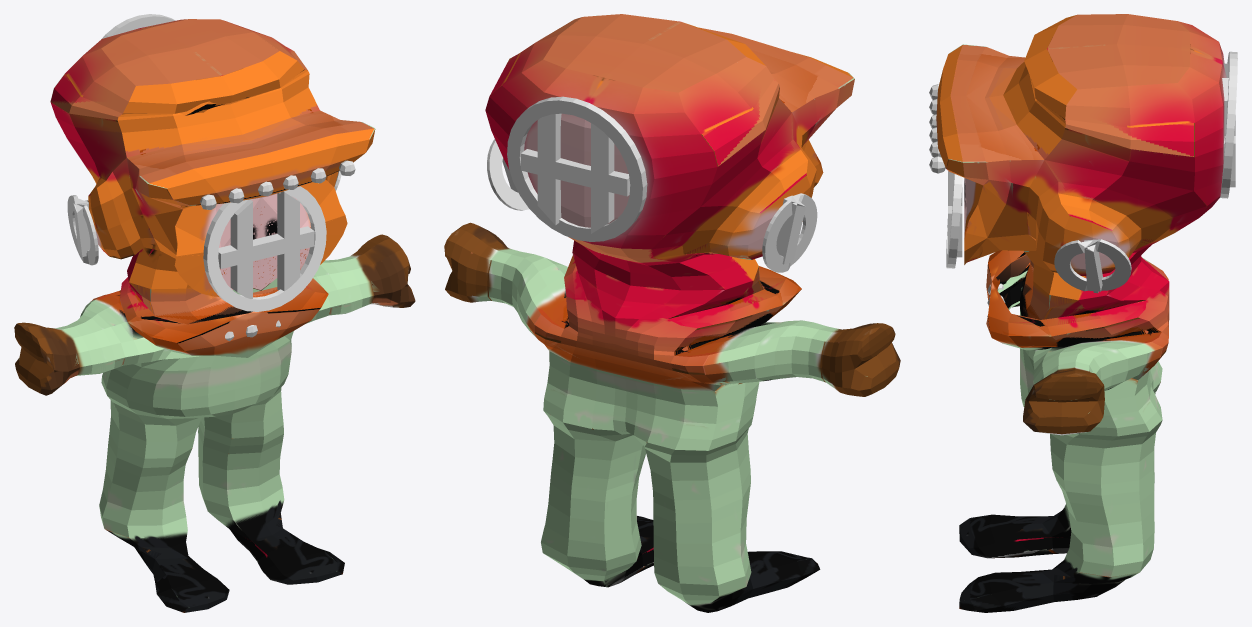
The model's file is felix.fbx.
The picture shows the model from 3 angles, left to right: view 1: azimuth 30°, elevation 25°; view 2: azimuth 150°, elevation 25°; view 3: azimuth 270°, elevation 25°; orthographic projection. The views are drawn at different scales.
Parts seen in each view (by area): view 1: Cube.001, Cube.011, Circle.001, Cylinder.001, Circle.003; view 2: Cube.001, Circle.003, Cube.009, Cylinder.001, Cylinder.002; view 3: Cube.001, Cylinder.002, Circle.003, Circle.001, Cube.011, Cube.009.
Boxes of the visible parts, x1=… form: Cube.001: x1=14, y1=19, x2=415, y2=612; Cube.011: x1=218, y1=191, x2=314, y2=298; Circle.001: x1=203, y1=186, x2=326, y2=311; Cylinder.001: x1=67, y1=195, x2=98, y2=265; Circle.003: x1=101, y1=14, x2=175, y2=39; Cube.001: x1=444, y1=14, x2=900, y2=612; Circle.003: x1=507, y1=96, x2=647, y2=241; Cube.009: x1=521, y1=113, x2=630, y2=233; Cylinder.001: x1=762, y1=193, x2=817, y2=272; Cylinder.002: x1=487, y1=139, x2=529, y2=210; Cube.001: x1=936, y1=14, x2=1226, y2=612; Cylinder.002: x1=1054, y1=239, x2=1131, y2=293; Circle.003: x1=1220, y1=51, x2=1237, y2=198; Circle.001: x1=946, y1=174, x2=962, y2=268; Cube.011: x1=948, y1=171, x2=962, y2=257; Cube.009: x1=1222, y1=63, x2=1235, y2=187.
Size of the model in its own units: 261 by 331 by 175.
Materials: 6 (1 with a texture image).
